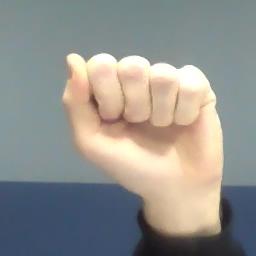A: (56, 49, 231, 192)
